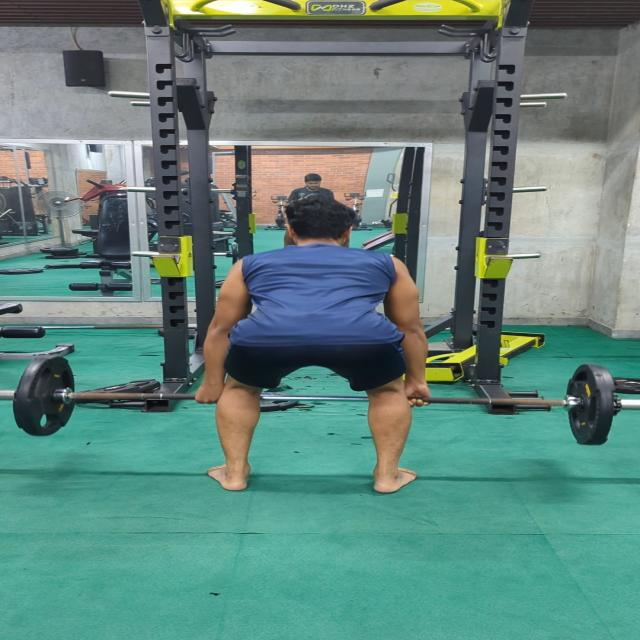Normal_Deadlifts: (193, 199, 431, 494)
